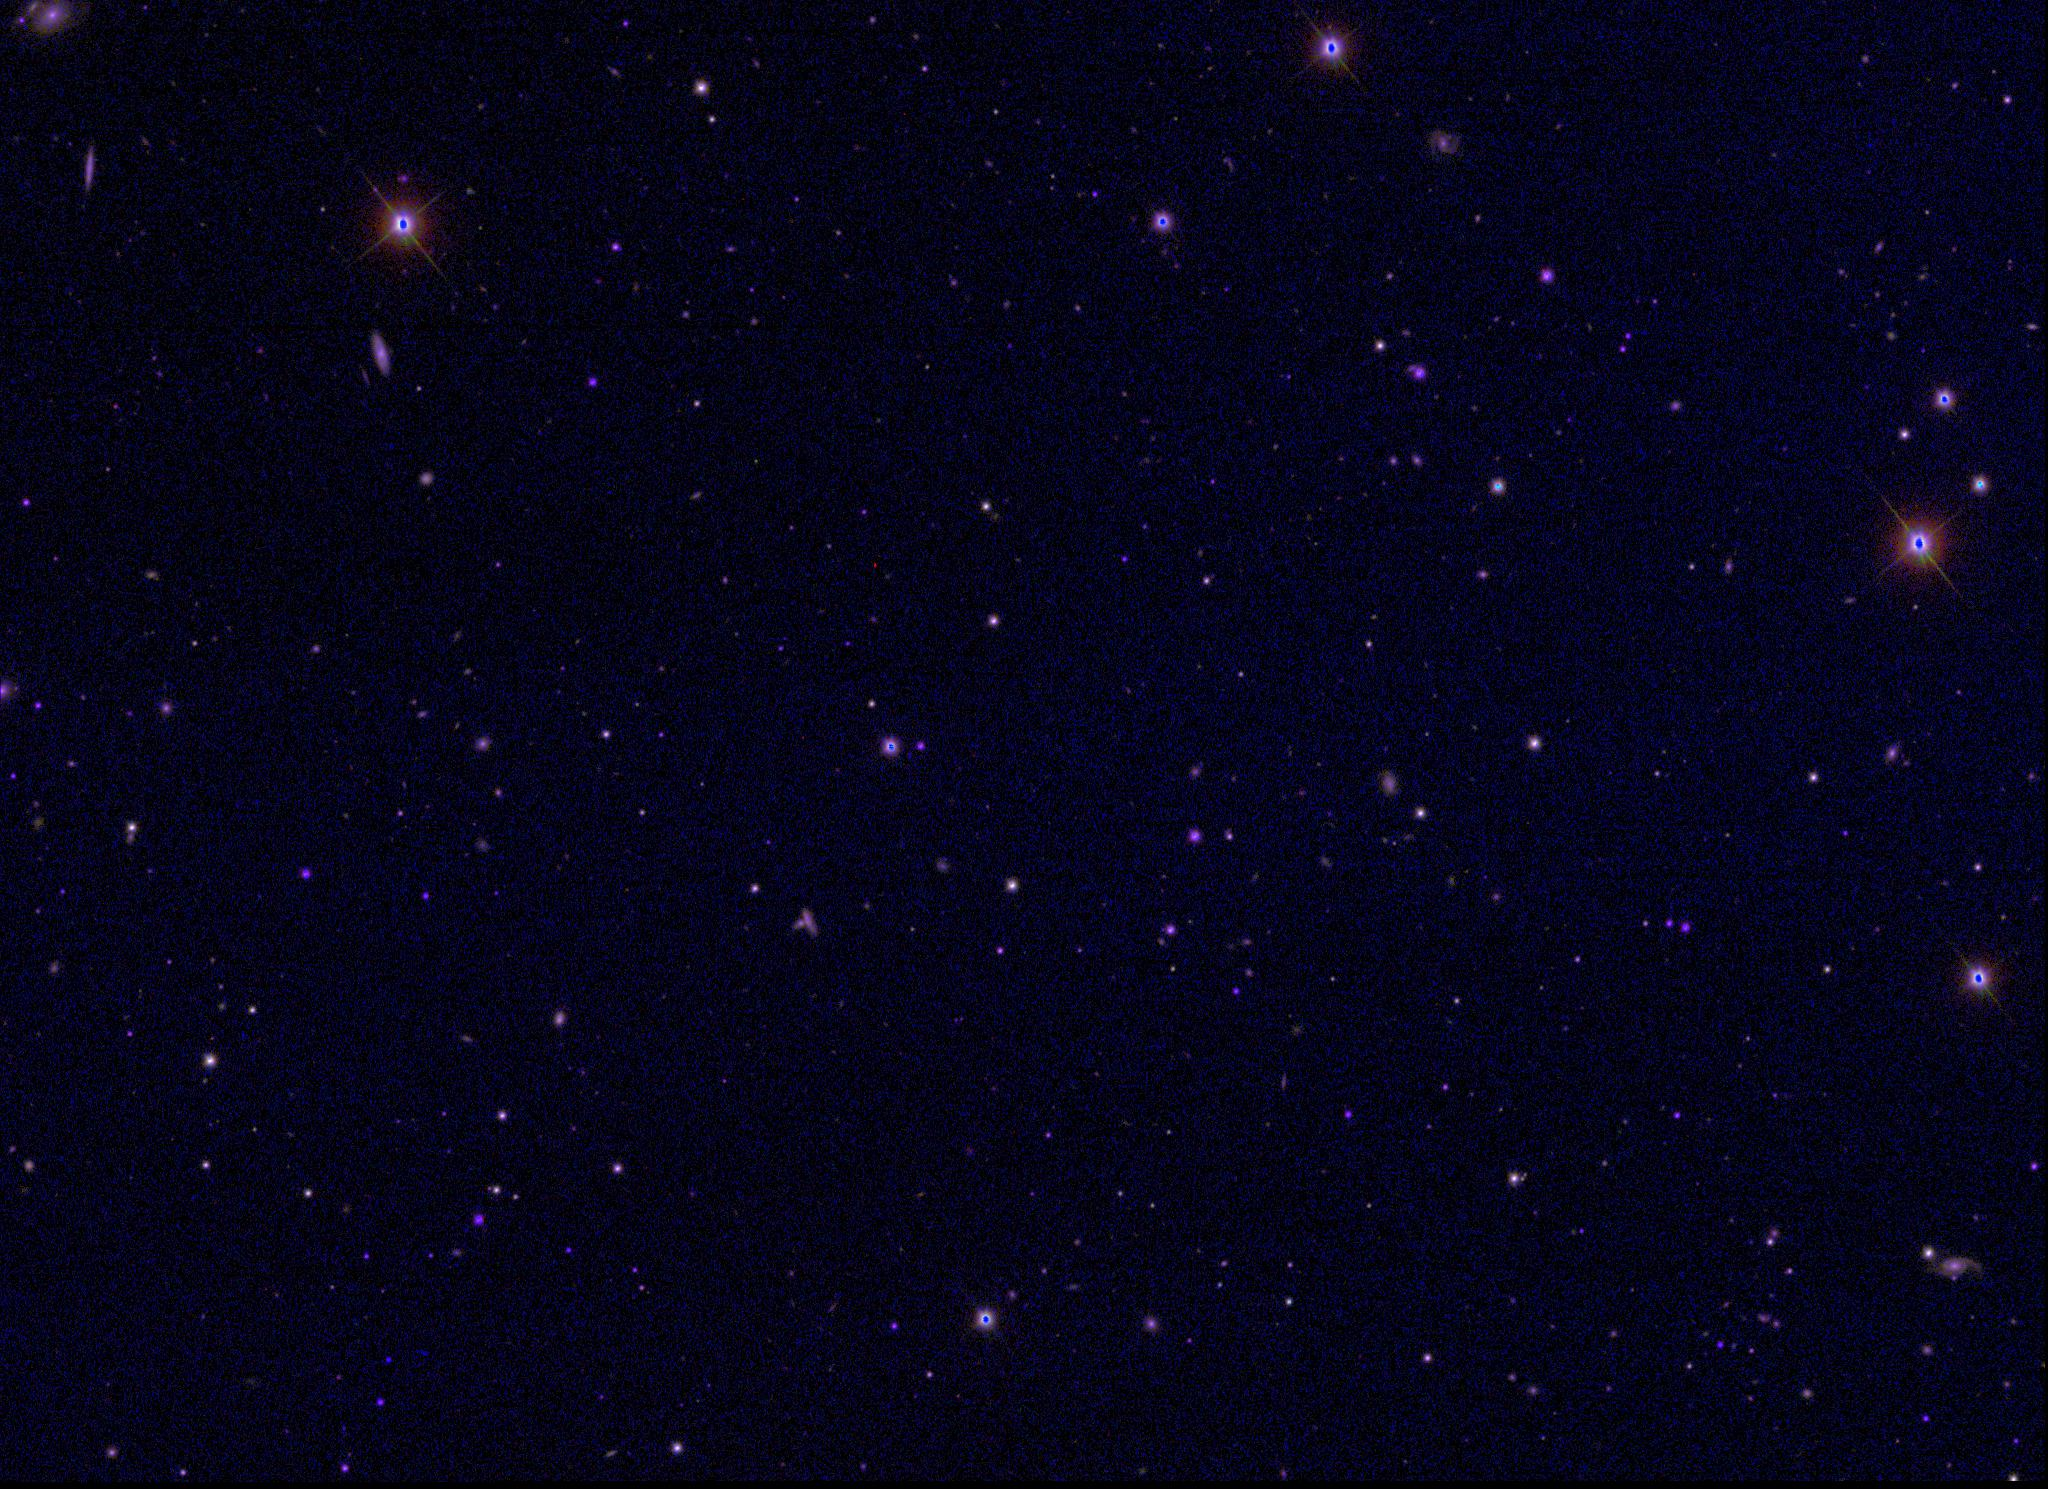L: (380, 1351, 394, 1365)
